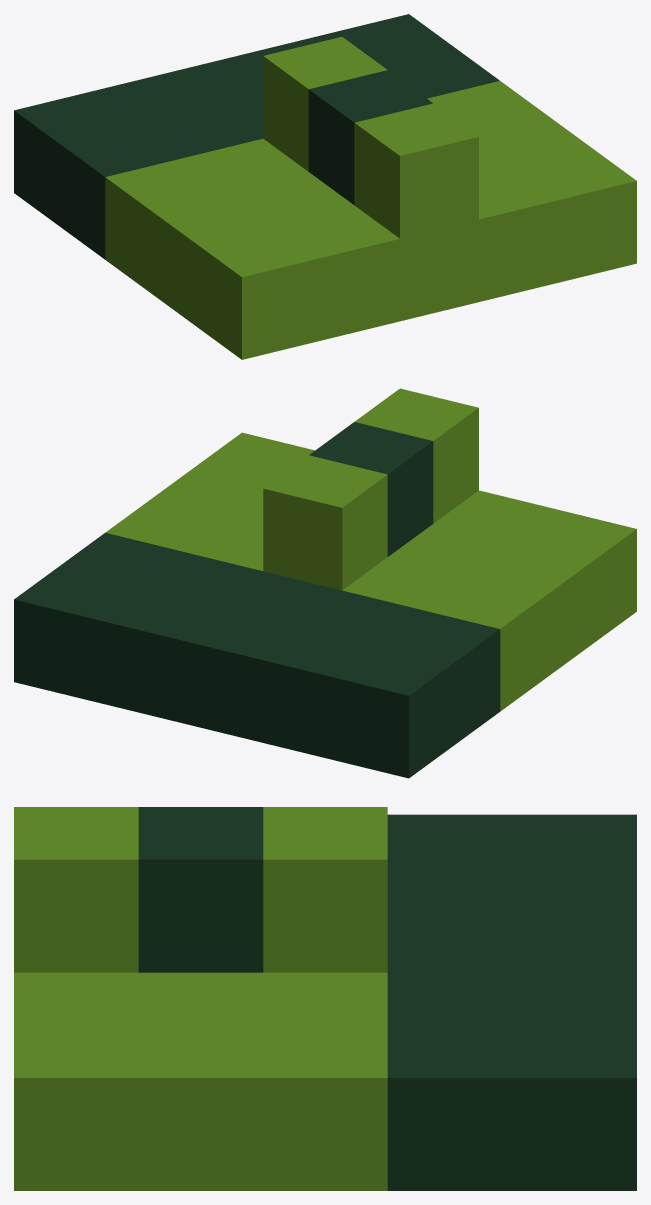
File: snake_body_02.gltf
3 views of the same model, one above another, from view 1: azimuth 30°, elevation 25°; view 2: azimuth 150°, elevation 25°; view 3: azimuth 270°, elevation 25° (orthographic). The views are drawn at different scales.
Parts seen in each view (by area): view 1: Untitled; view 2: Untitled; view 3: Untitled.
Part boxes in pixels (x1=…): Untitled: x1=14, y1=14, x2=636, y2=359; Untitled: x1=14, y1=388, x2=636, y2=778; Untitled: x1=14, y1=807, x2=636, y2=1190.
Size of the model in its own units: 0.5 by 0.2 by 0.5.
1 material, 1 textured.
